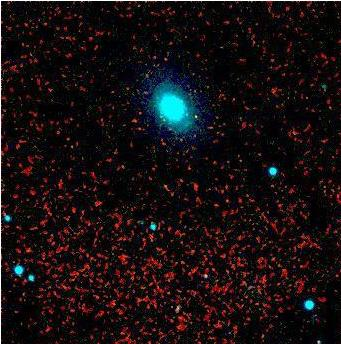star: (181, 100, 211, 130)
